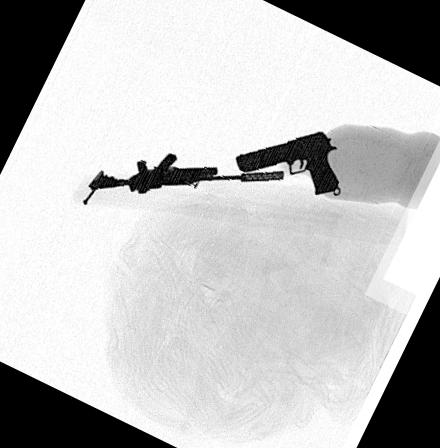Gun: (87, 151, 283, 194), (235, 130, 339, 195)
